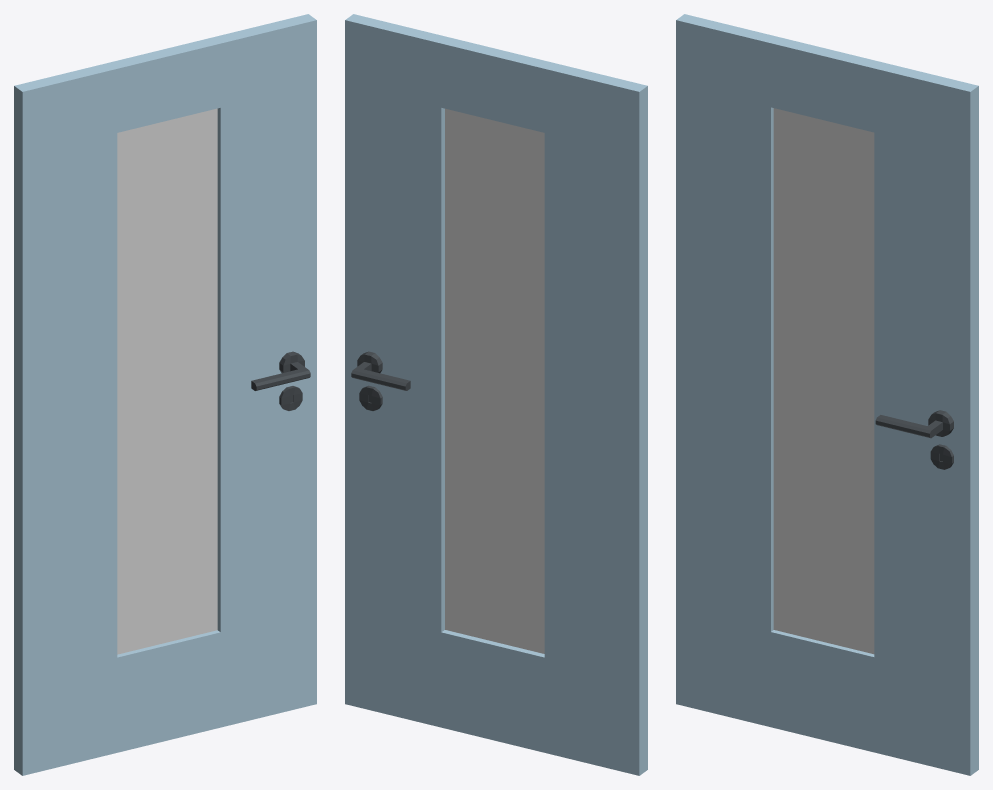
Rendered from DoorCabinet.fbx.
3 views of the same model, side by side, from view 1: azimuth 30°, elevation 25°; view 2: azimuth 150°, elevation 25°; view 3: azimuth 330°, elevation 25° (orthographic).
Parts seen in each view (by area): view 1: Cube.003; view 2: Cube.003; view 3: Cube.003.
Part boxes in pixels (bbox=[...]): Cube.003: bbox=[14, 14, 316, 775]; Cube.003: bbox=[345, 14, 647, 775]; Cube.003: bbox=[676, 14, 978, 775].
Size of the model in its own units: 102 by 226 by 25.73.
